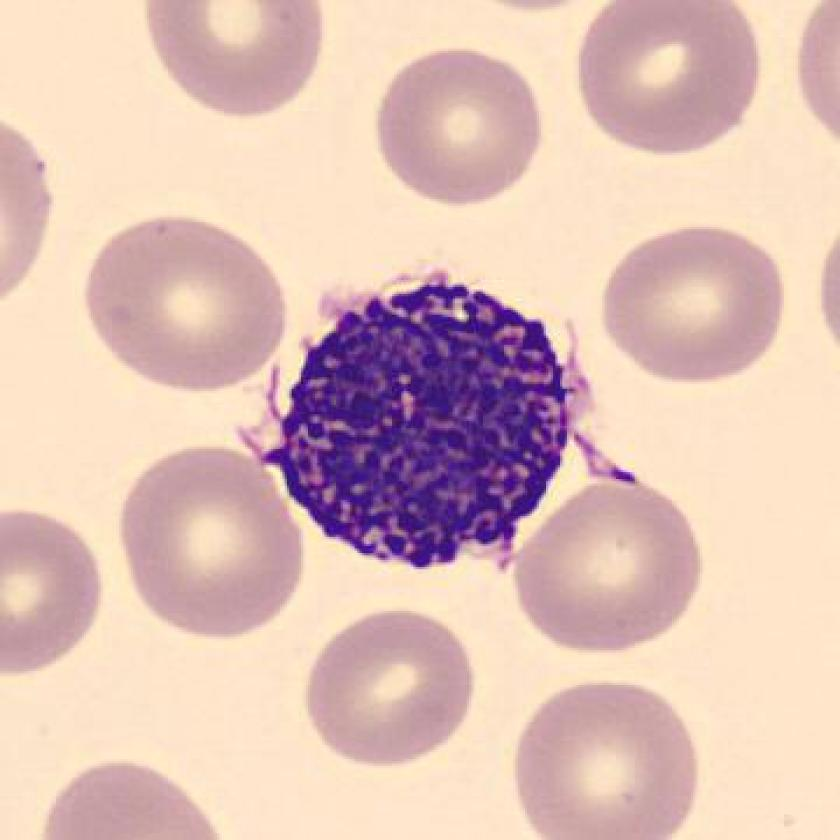basophil: (260, 270, 591, 578)
